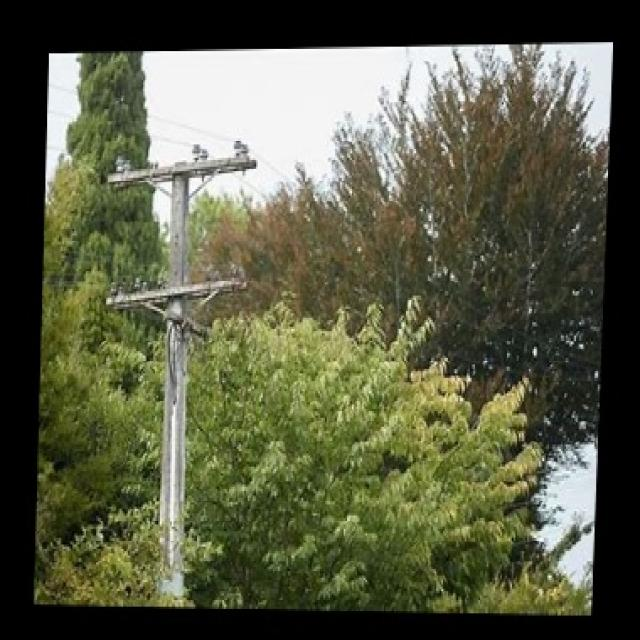utility poles: (101, 131, 252, 608)
